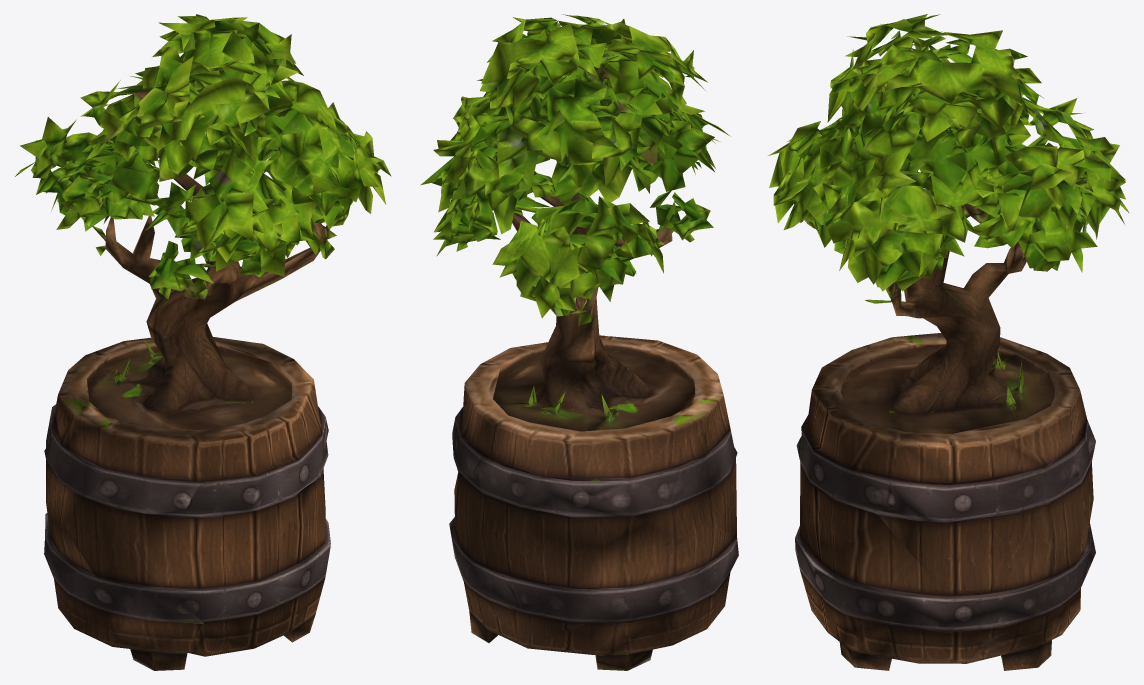
File: barril-bonsai.fbx
3 renders of one model, left to right at view 1: azimuth 30°, elevation 25°; view 2: azimuth 150°, elevation 25°; view 3: azimuth 270°, elevation 25°, orthographic. The views are drawn at different scales.
Visible parts, largest first — view 1: mesh_node; view 2: mesh_node; view 3: mesh_node.
Boxes of the visible parts, x1=… form: mesh_node: x1=15, y1=14, x2=391, y2=670; mesh_node: x1=420, y1=14, x2=738, y2=670; mesh_node: x1=768, y1=14, x2=1129, y2=670.
Size of the model in its own units: 97.41 by 189 by 102.
1 material, 1 textured.
